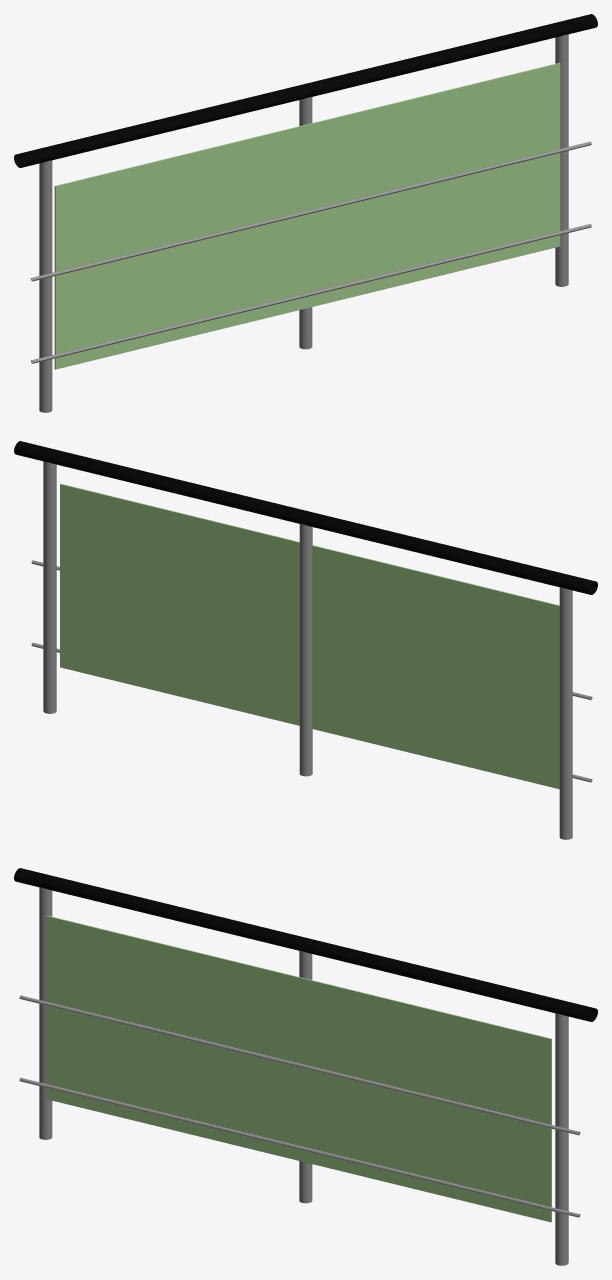
The model's file is Fence.FBX.
3 views of the same model, one above another, from view 1: azimuth 30°, elevation 25°; view 2: azimuth 150°, elevation 25°; view 3: azimuth 330°, elevation 25° (orthographic).
Visible parts, largest first — view 1: fence; view 2: fence; view 3: fence.
Boxes of the visible parts, x1,y1,x2,y2 form: fence: (14,14,597,412); fence: (14,441,597,839); fence: (14,868,597,1265).
Bounding box in the file's own units: 264 × 114 × 8.71.
